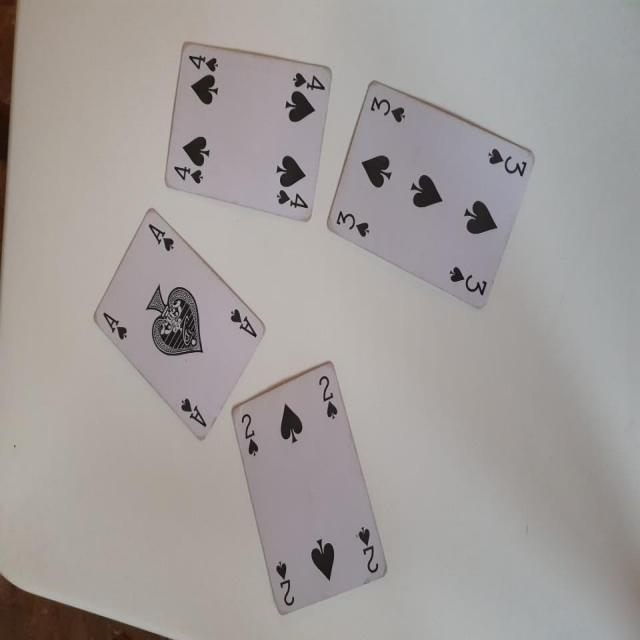3 Diamonds: (228, 358, 395, 626)
4 Diamonds: (323, 79, 536, 323)
5 Diamonds: (166, 44, 329, 223)
A Spades: (92, 203, 263, 444)
